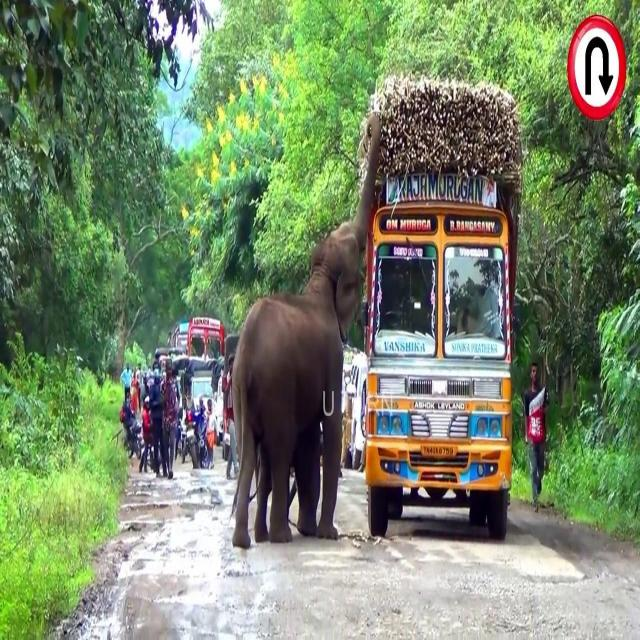Elephant: (230, 110, 382, 550)
